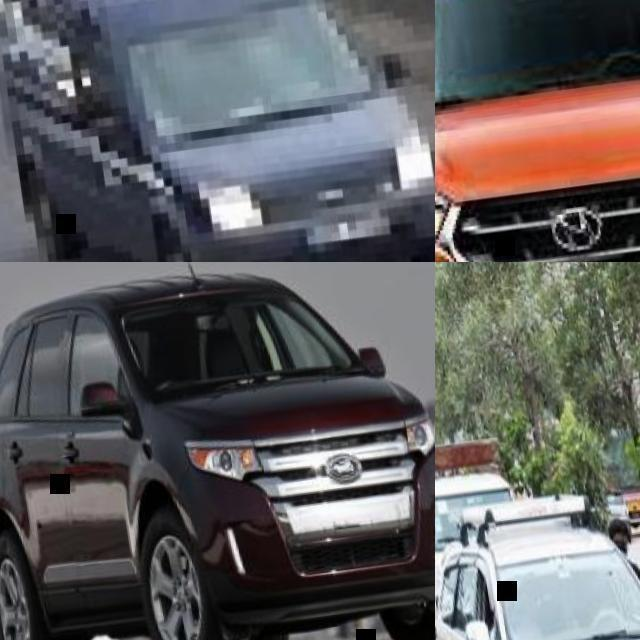car: (2, 254, 424, 623), (435, 493, 639, 639)
